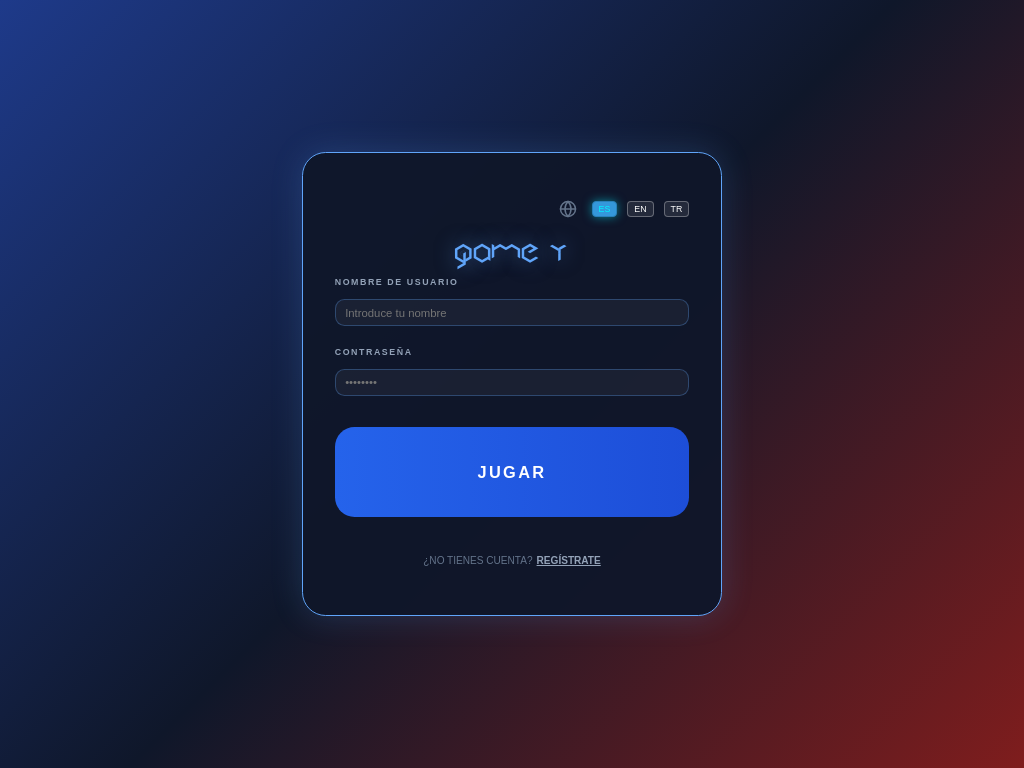
Test: RegisterForm › 5. Handles network error gracefully
Type "user" into the field with id "login-username". click: (512, 313)
box: left=335, top=299, right=689, bottom=326
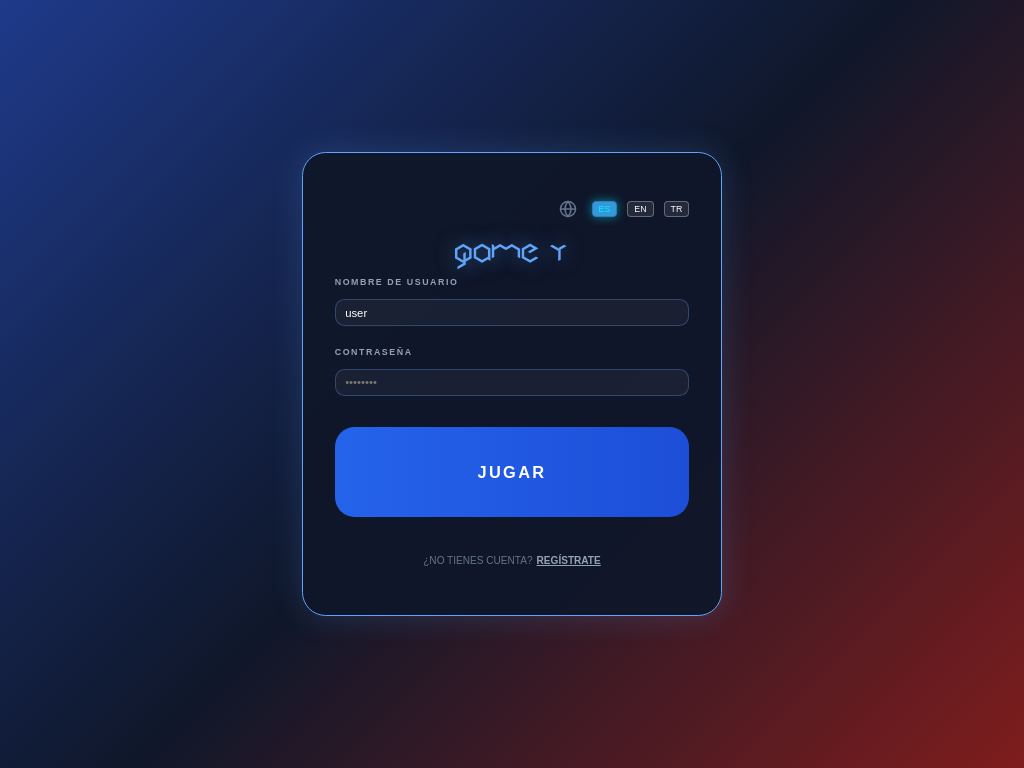
Type "pass" into the password field with id "login-password". click: (512, 382)
box: left=335, top=369, right=689, bottom=396
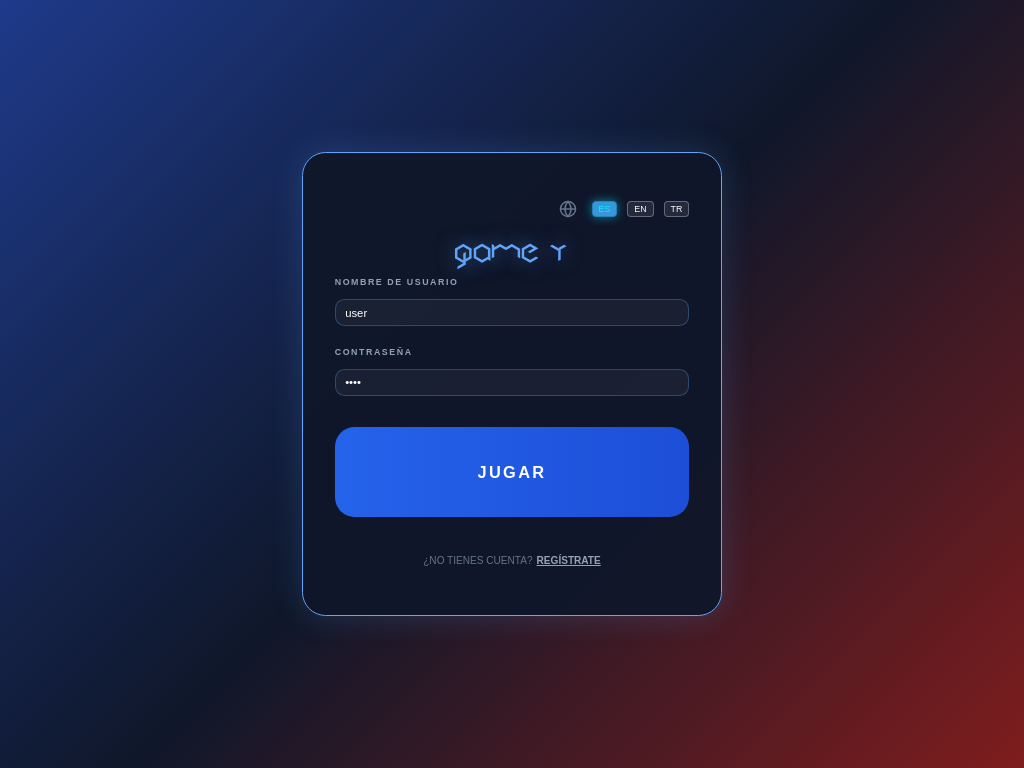
Click the submit button. click: (512, 472)
box: left=335, top=427, right=689, bottom=517
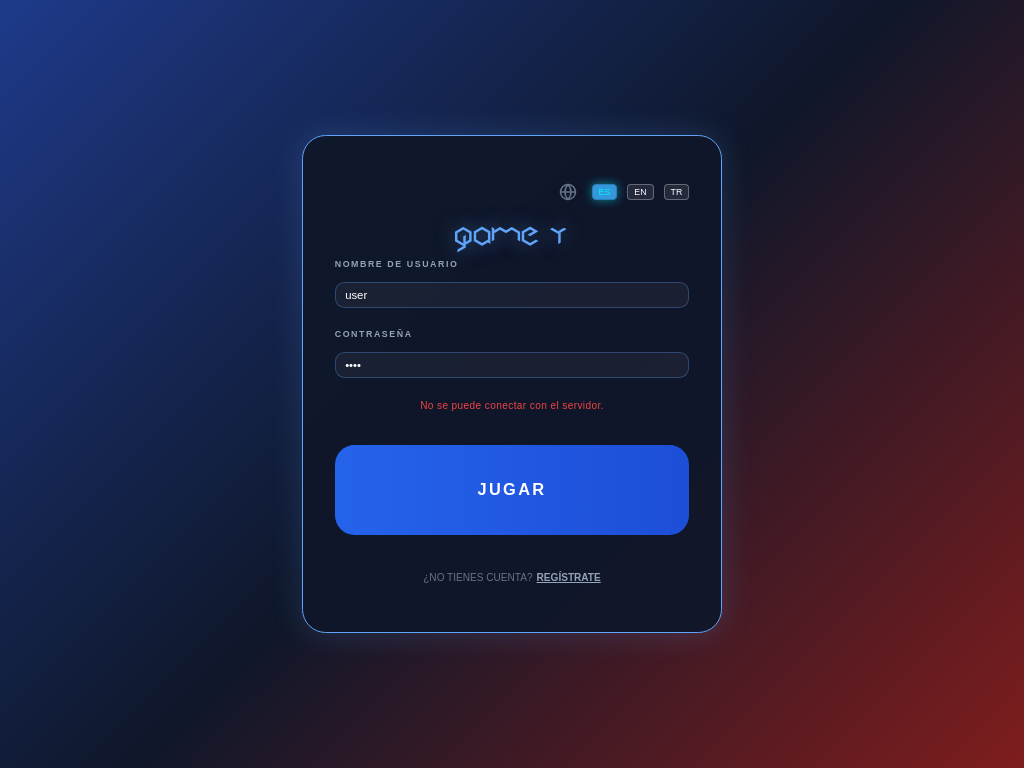
Result: the text "No se puede conectar con el servidor." is shown at left=420, top=400, right=604, bottom=411
